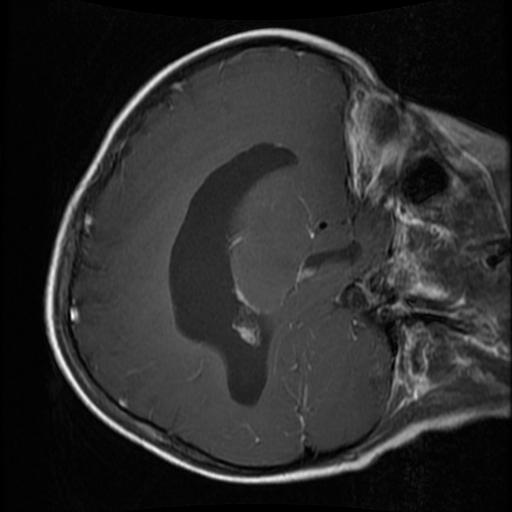glioma: (165, 144, 295, 407)
